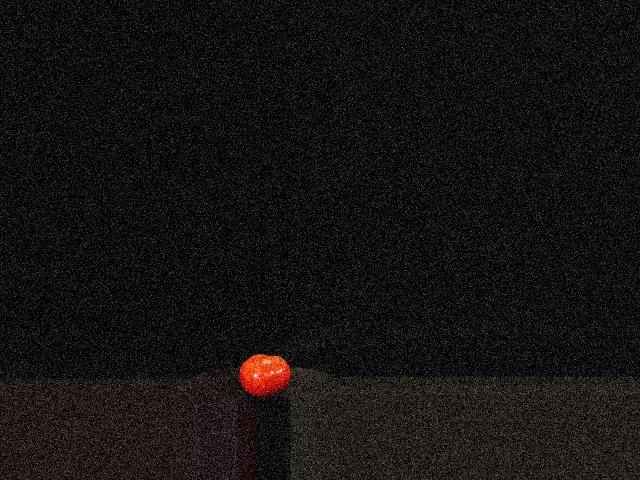tomato: (238, 354, 290, 398)
